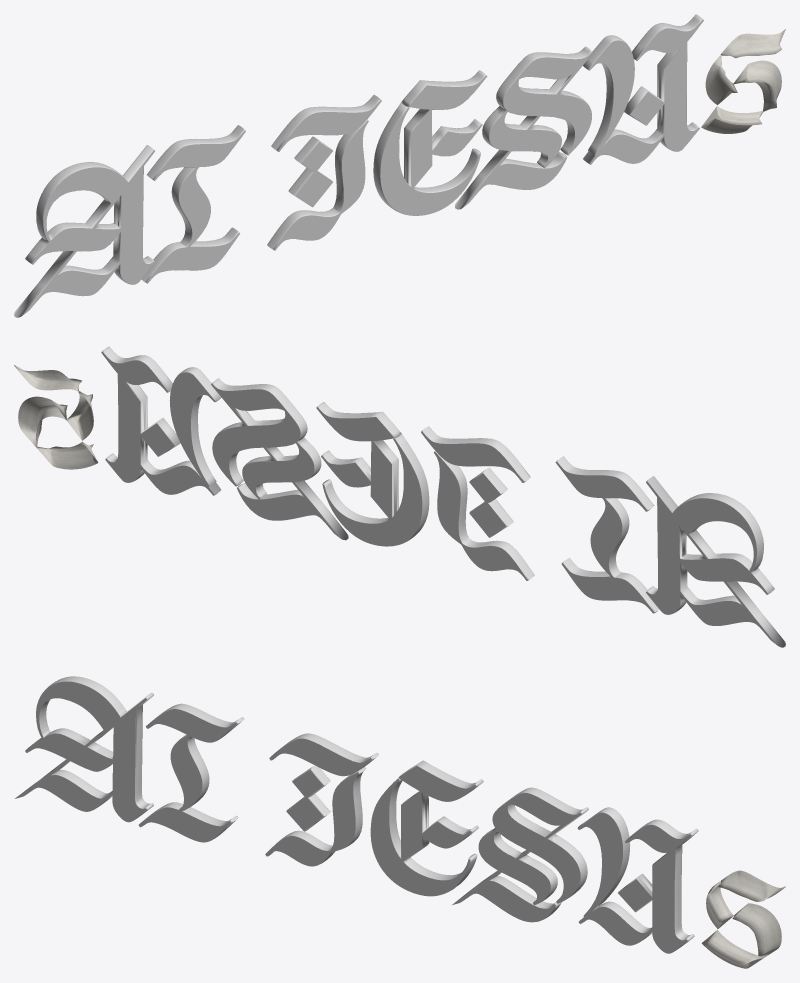
The model's file is titles25.glb.
3 views of the same model, one above another, from view 1: azimuth 30°, elevation 25°; view 2: azimuth 150°, elevation 25°; view 3: azimuth 330°, elevation 25° (orthographic).
Visible parts, largest first — view 1: A, S, U, E, J, I, S2; view 2: A, S, U, E, J, I, S2; view 3: A, S, U, E, J, I, S2.
Part boxes in pixels (x1,y1,x2,y2): A: [14, 145, 154, 317]; S: [455, 46, 593, 209]; U: [583, 14, 703, 164]; E: [373, 70, 487, 215]; J: [267, 95, 381, 250]; I: [141, 125, 245, 283]; S2: [701, 29, 785, 133]; A: [646, 476, 785, 647]; S: [211, 378, 348, 540]; U: [101, 346, 221, 495]; E: [316, 402, 429, 546]; J: [421, 426, 534, 580]; I: [555, 456, 659, 613]; S2: [14, 365, 98, 469]; A: [14, 676, 153, 822]; S: [451, 787, 588, 922]; U: [577, 807, 698, 953]; E: [370, 760, 483, 896]; J: [265, 733, 378, 866]; I: [138, 703, 244, 842]; S2: [701, 870, 785, 968].
Size of the model in its own units: 0.476 by 0.0809 by 0.0108.
2 materials, 1 textured.
